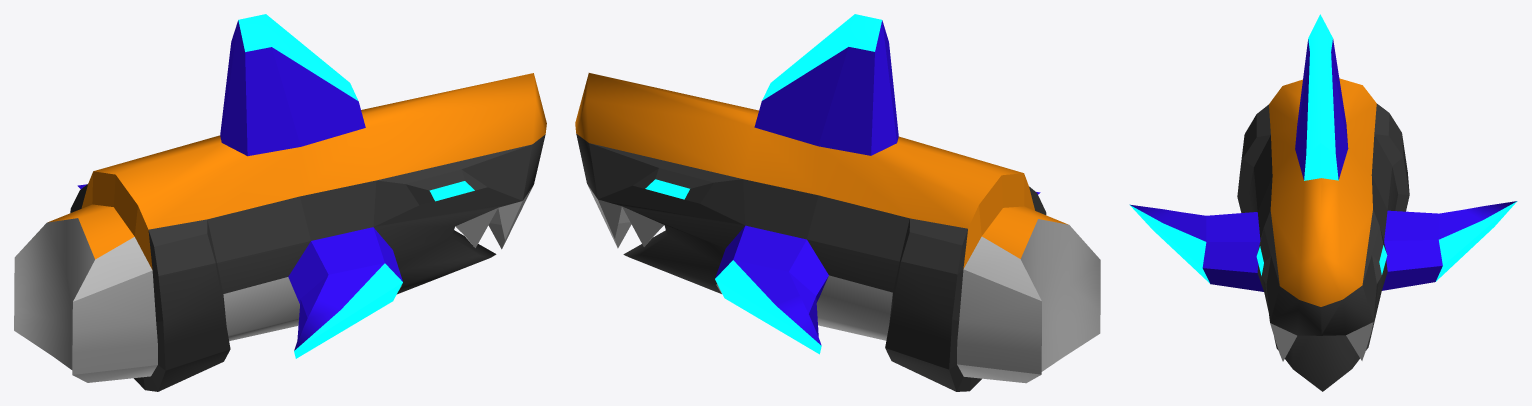
The model's file is sharky_gun.glb.
3 views of the same model, side by side, from view 1: azimuth 30°, elevation 25°; view 2: azimuth 150°, elevation 25°; view 3: azimuth 270°, elevation 25° (orthographic). The views are drawn at different scales.
Parts seen in each view (by area): view 1: Normal_Sharky_PrimaryGun; view 2: Normal_Sharky_PrimaryGun; view 3: Normal_Sharky_PrimaryGun.
Part boxes in pixels (box(x1,y1,x2,y2)): Normal_Sharky_PrimaryGun: box(14, 14, 546, 391); Normal_Sharky_PrimaryGun: box(575, 14, 1100, 391); Normal_Sharky_PrimaryGun: box(1129, 14, 1517, 391).
Bounding box in the file's own units: 0.9371 × 0.6247 × 0.7072.
